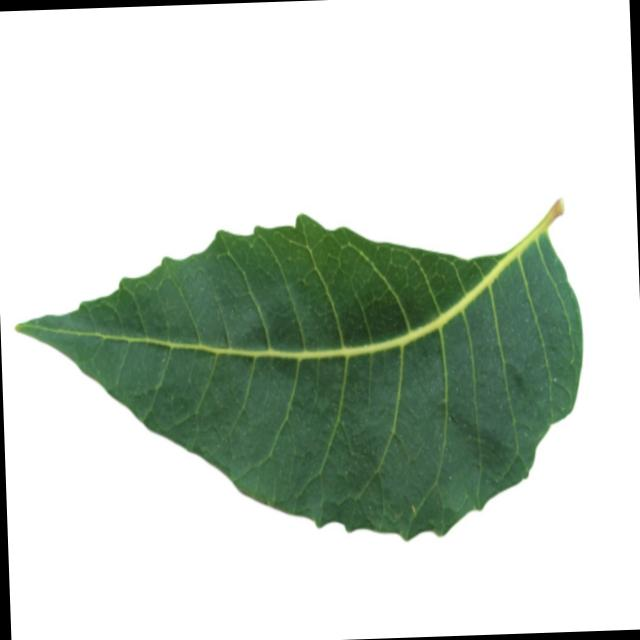Medicinal-Neem: (9, 190, 590, 554)
